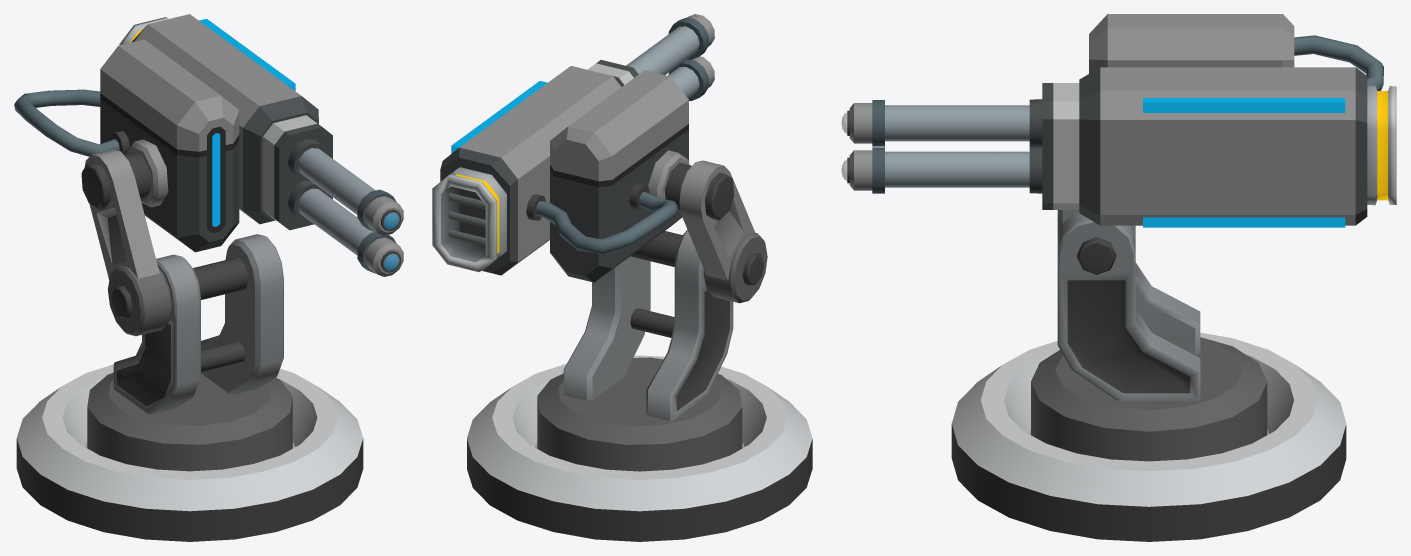
Rendered from Turret_010.glb.
The picture shows the model from 3 angles, left to right: view 1: azimuth 30°, elevation 25°; view 2: azimuth 150°, elevation 25°; view 3: azimuth 270°, elevation 25°; orthographic projection. The views are drawn at different scales.
Parts seen in each view (by area): view 1: Turret_010, Turret_010_body_001, Turret_010_leg_002; view 2: Turret_010, Turret_010_body_001, Turret_010_leg_002; view 3: Turret_010_body_001, Turret_010.
Boxes of the visible parts, x1,y1,x2,y2 form: Turret_010: [16, 234, 363, 541]; Turret_010_body_001: [14, 14, 403, 276]; Turret_010_leg_002: [81, 149, 171, 336]; Turret_010: [467, 229, 812, 541]; Turret_010_body_001: [432, 14, 714, 282]; Turret_010_leg_002: [664, 160, 767, 303]; Turret_010_body_001: [841, 14, 1396, 227]; Turret_010: [951, 210, 1346, 541].
Bounding box in the file's own units: 1.09 × 1.33 × 1.53.
Materials: 3 (3 with a texture image).
